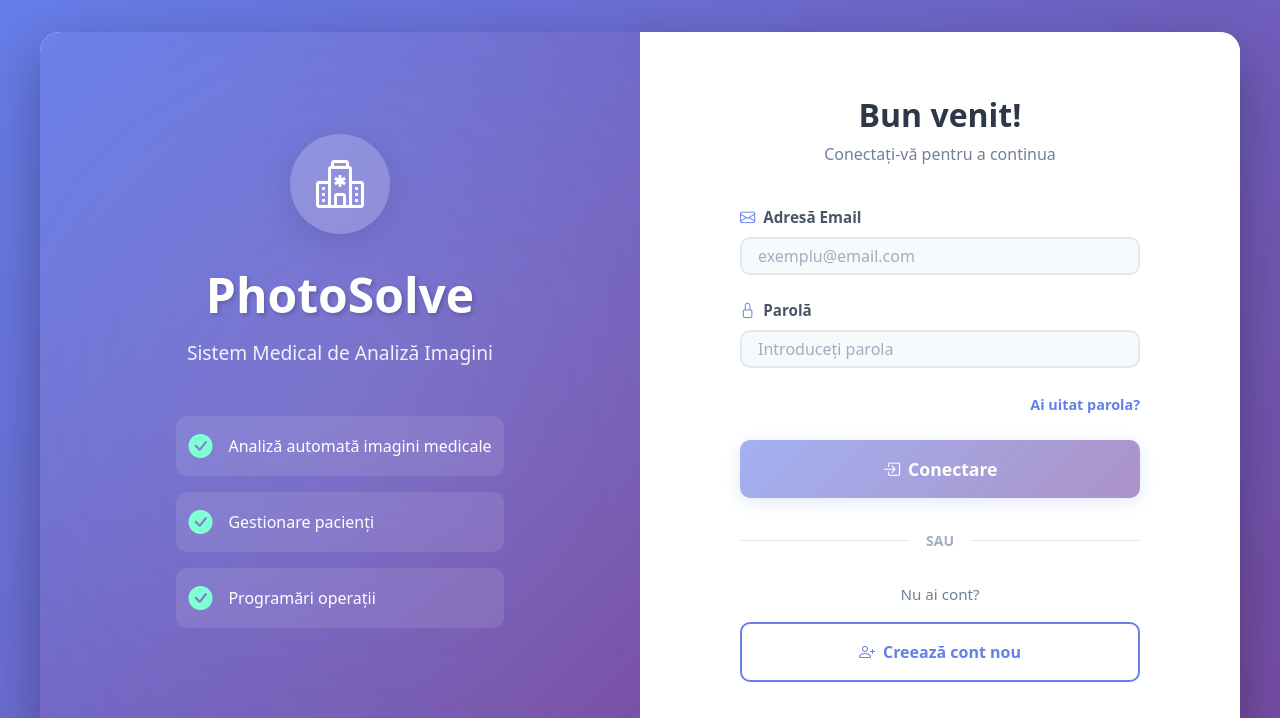
Scenario: Mesagerie Tests › 19. Should send a message to selected user
Type "roxanaelena111111@gmail.com" into the field labelled "Adresă Email" at (940, 256), box [740,237,1140,275]
Type "123456" into the password field labelled "Parolă" at (940, 349), box [740,330,1140,368]
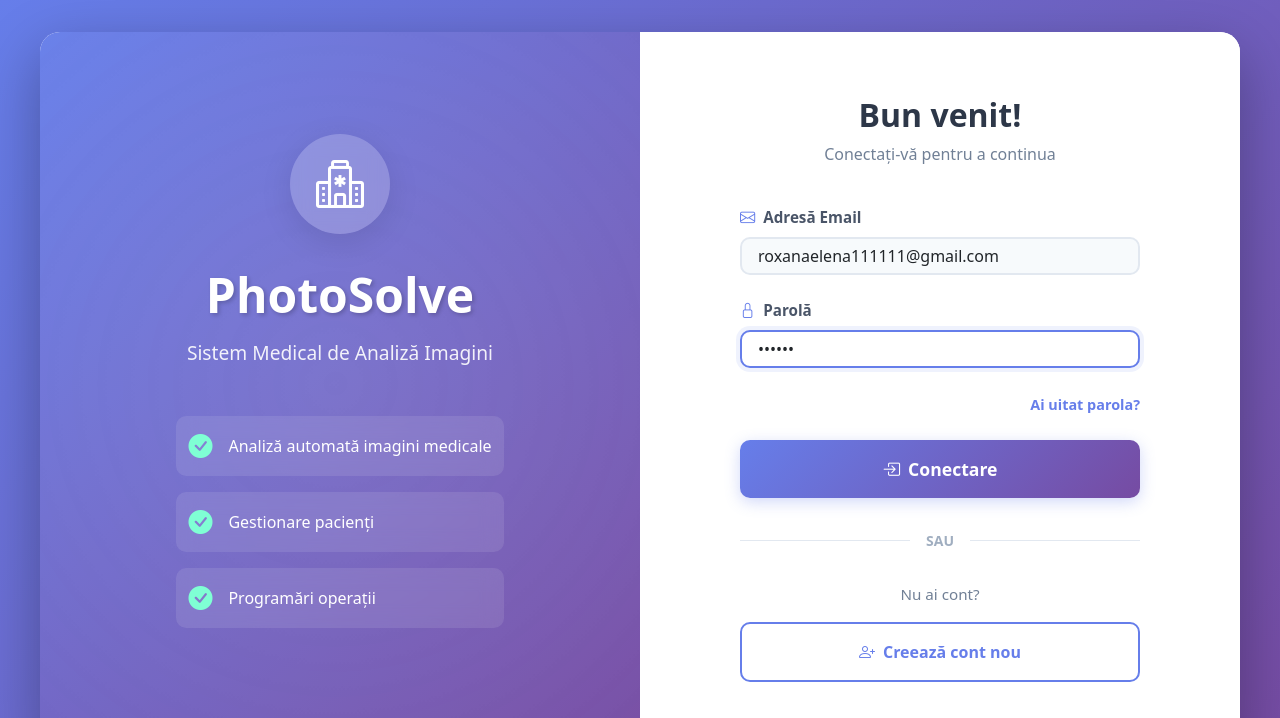
Click the submit button at (940, 469), box [740,440,1140,498]
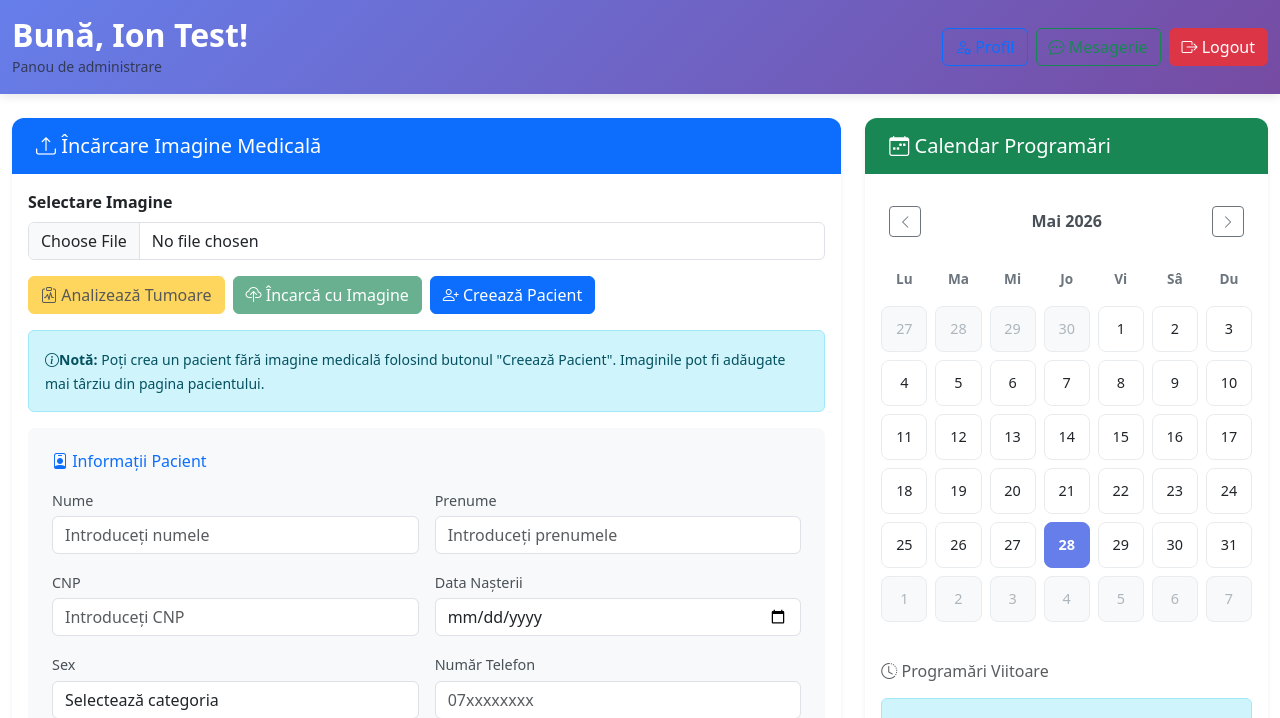
Open "/mesagerie"
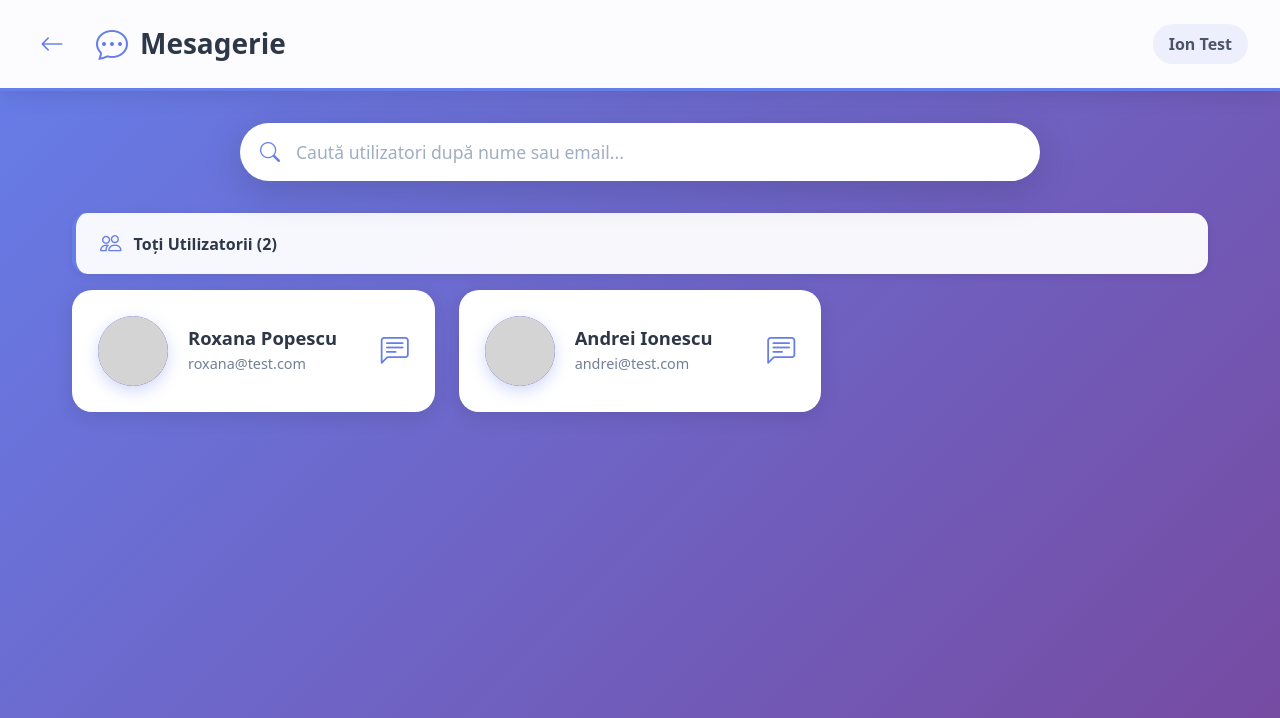
Click the element with class "user-card" showing "Roxana Popescu roxana@test.com" at (254, 351), box [72,290,435,412]
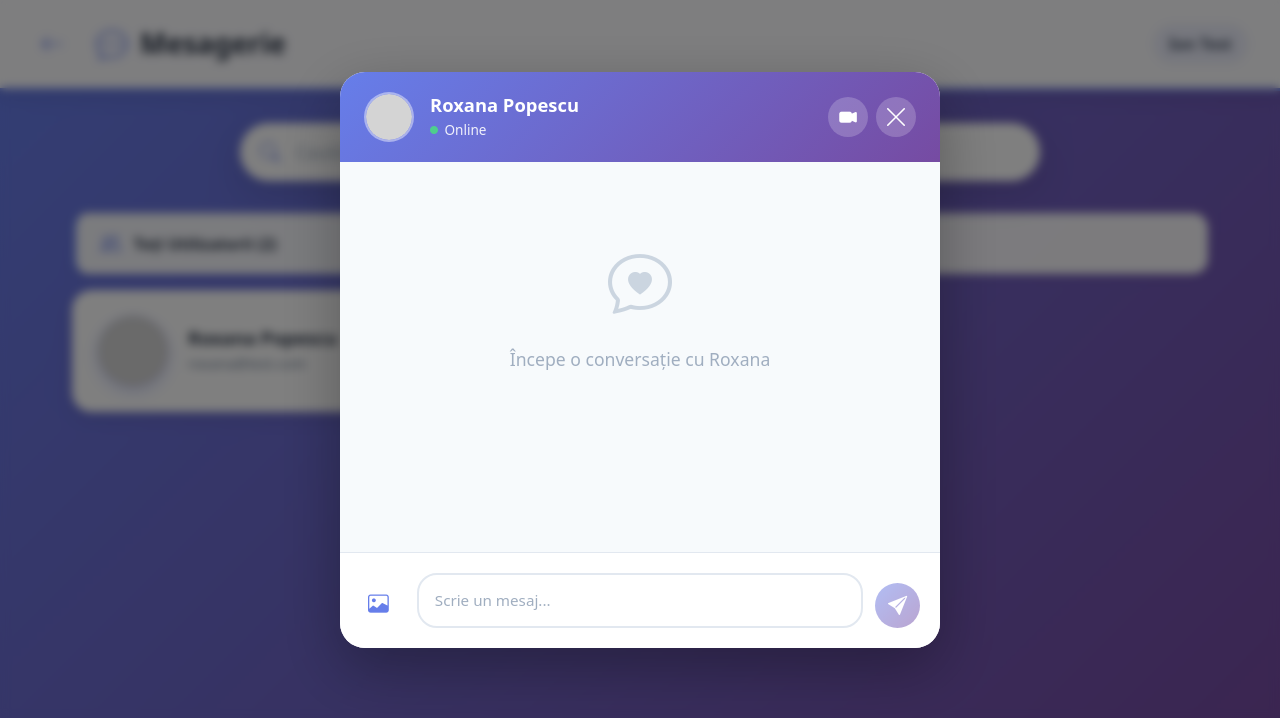
Type "Acesta este un mesaj de test pentru aplicație" into the text box with class "chat-input" at (640, 601), box [417,573,863,628]
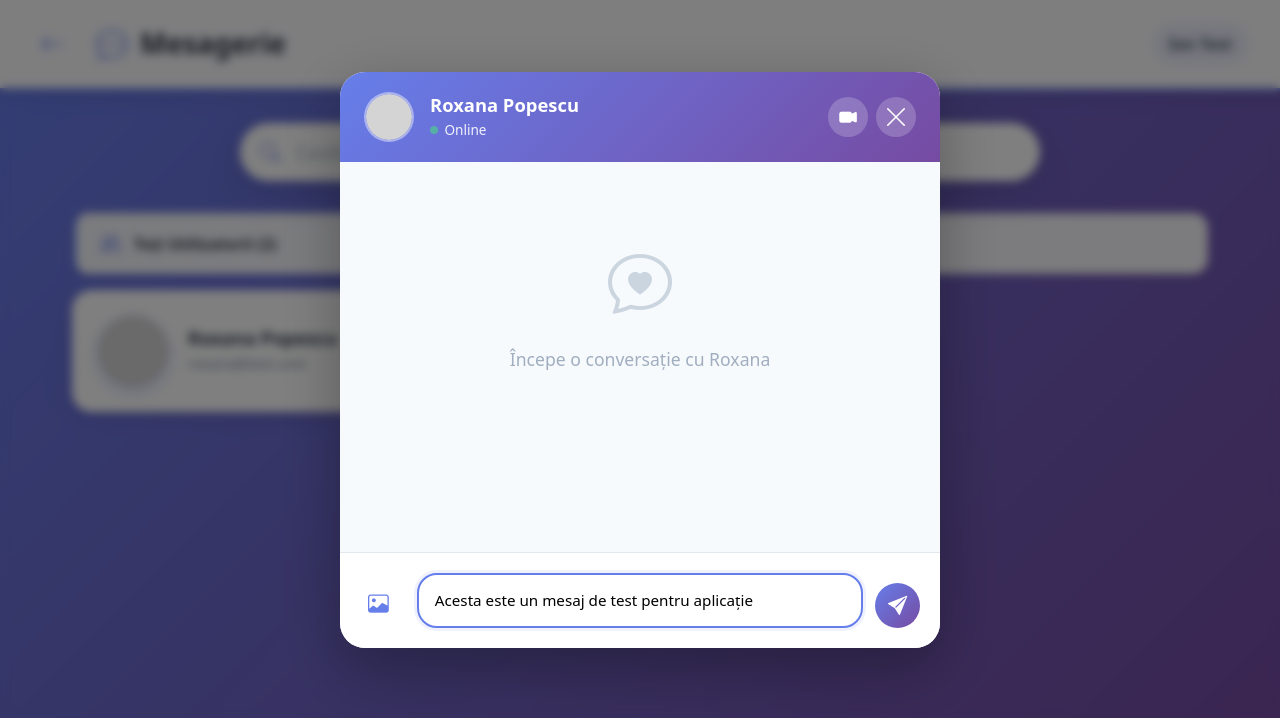
Click the button with class "btn-send" at (898, 606), box [875,583,920,628]
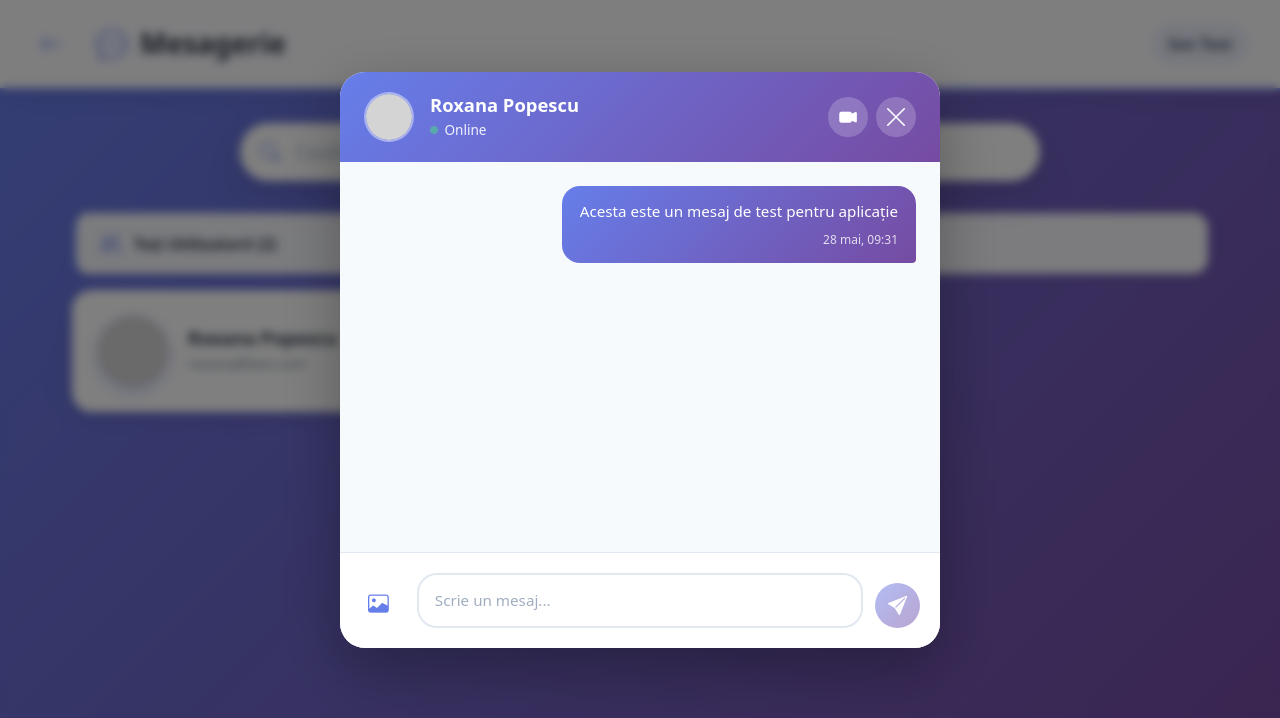
Check: the text with class "message" reads "Acesta este un mesaj de test pentru aplicație", box [580,201,898,221]
